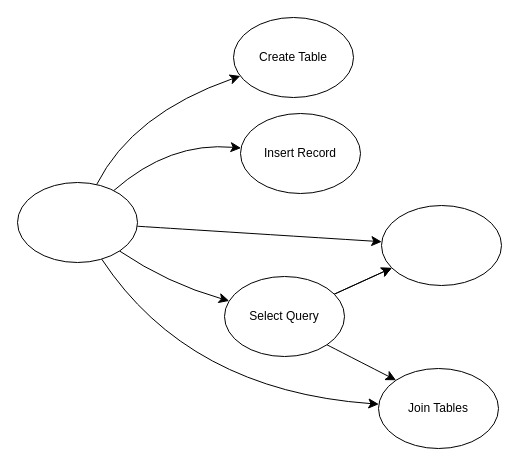
Some shapes in this 519 by 466 pixel diagram are drawn without their labels. The shapes that lost their labels are listed below. From the top down, each one's box as (x1, y1, x2, y2) in pixels, then its label:
(16, 182, 138, 262): User
(380, 204, 502, 286): Create Index
